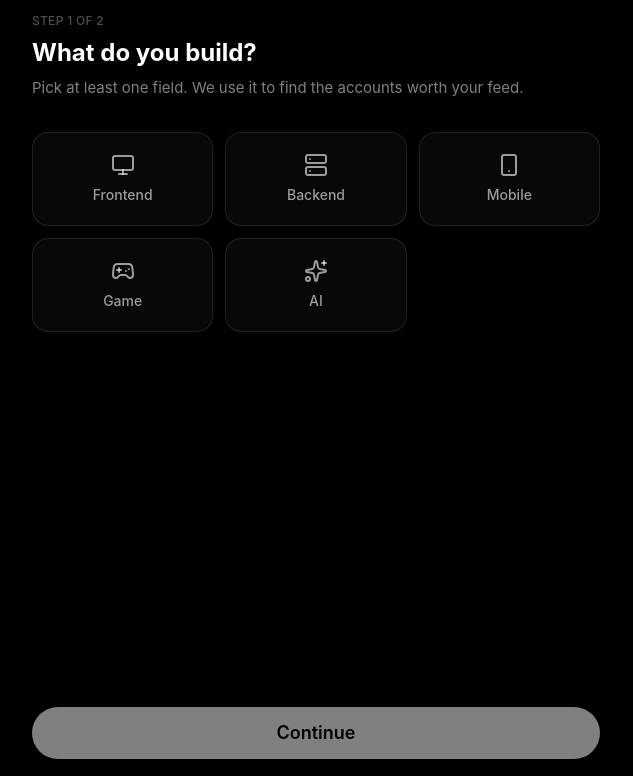
Test: OnboardingPage › drops the requirement to the number of accounts on offer
The width and height of the screenshot is (633, 776).
Click the button "Backend": (316, 178) [225, 132, 407, 226]
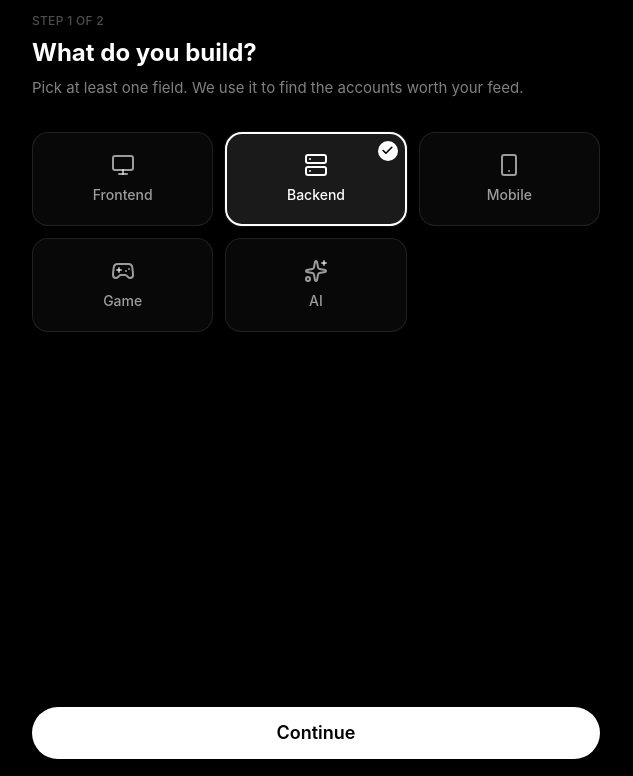
Click the button "Continue": (316, 733) [32, 707, 600, 759]
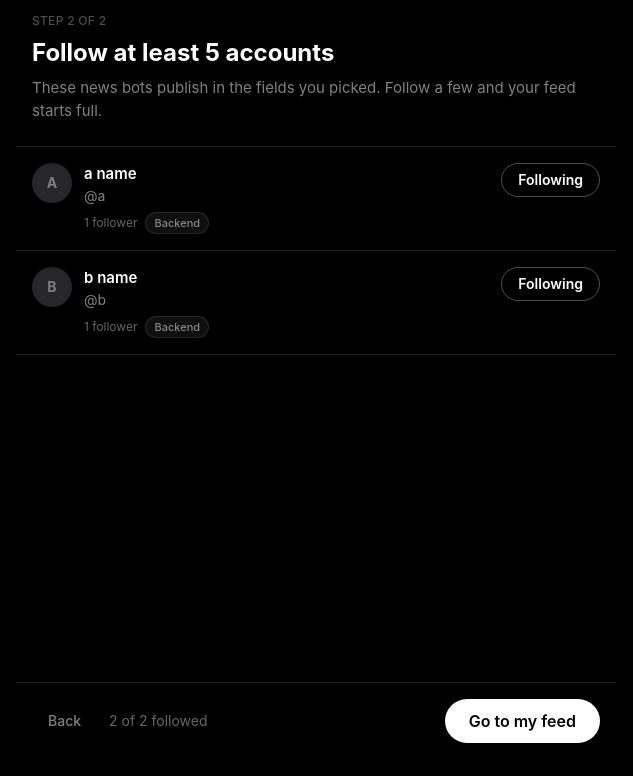
Result: the button "Go to my feed" is enabled at [445, 699, 600, 743]
Result: the text "2 of 2 followed" is shown at [109, 712, 208, 729]
